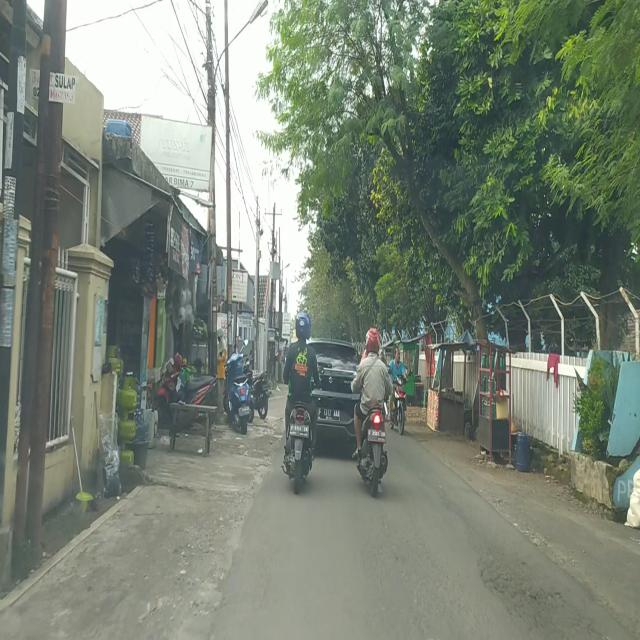Drain Hole: (467, 554, 579, 636)
